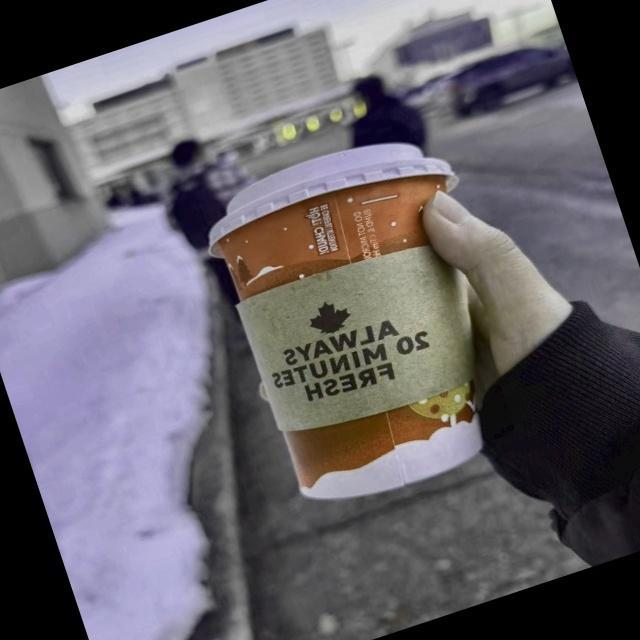timmies: (205, 134, 490, 507)
